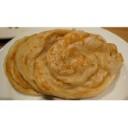parota: (20, 33, 120, 97)
